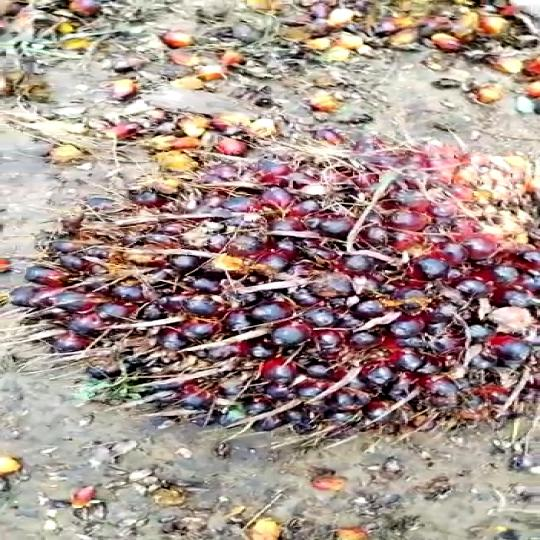kurang masak: (7, 136, 540, 448)
